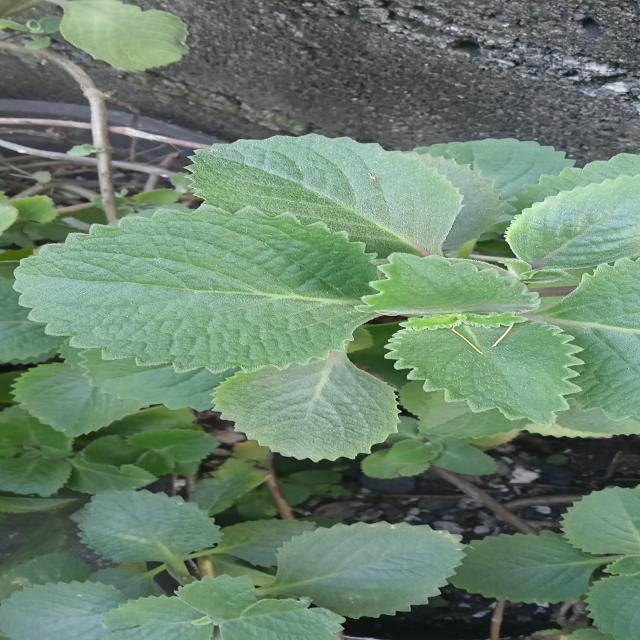Oregano: (19, 201, 578, 414)
